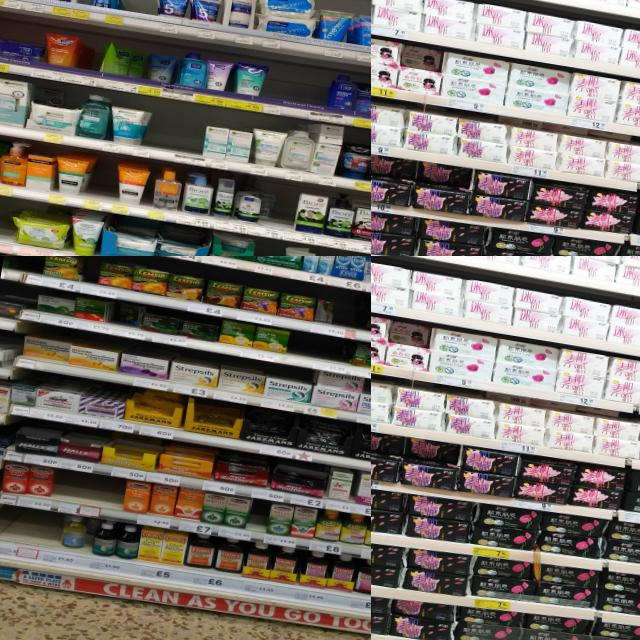100- O.O.S: (264, 66, 330, 122), (52, 470, 124, 521), (148, 108, 208, 166), (0, 509, 61, 566), (286, 331, 344, 373), (89, 160, 118, 212), (331, 291, 362, 339), (273, 188, 299, 241), (247, 499, 271, 544), (125, 0, 159, 30), (0, 204, 18, 253), (83, 44, 103, 88), (16, 256, 47, 284)
